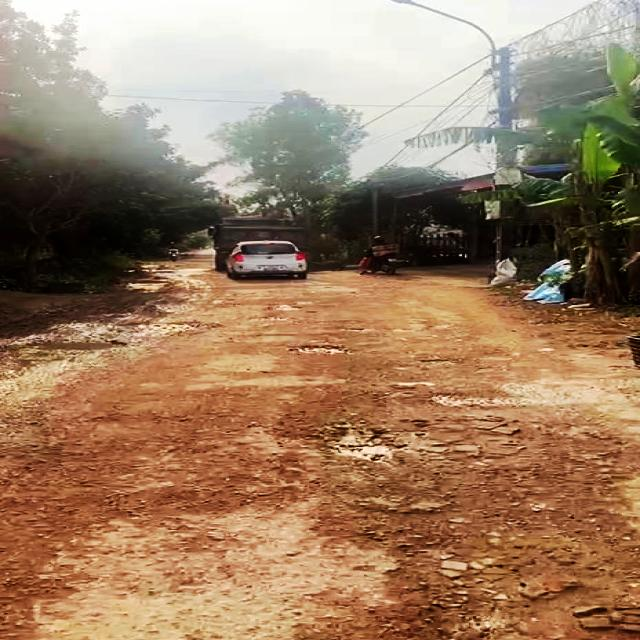pothole: (378, 523, 640, 640), (304, 419, 410, 469), (26, 335, 135, 353), (425, 391, 492, 409), (284, 341, 346, 357)
